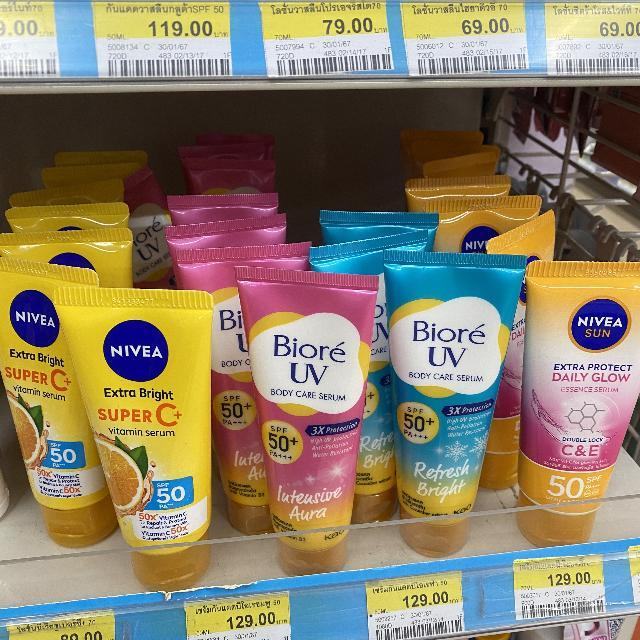Squeeze Tube: (1, 136, 640, 564)
